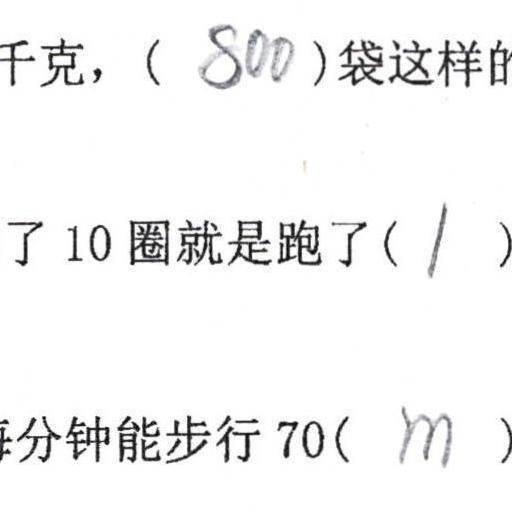ans: (194, 14, 294, 91), (392, 400, 456, 469), (423, 199, 455, 281)
